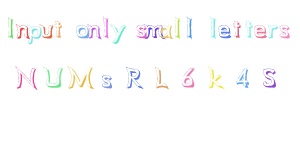4: (232, 64, 255, 91)
6: (180, 60, 200, 92)
I: (3, 15, 16, 43)
L: (151, 60, 174, 94)
M: (68, 61, 95, 92)
N: (12, 59, 38, 92)
R: (121, 61, 146, 93)
S: (260, 64, 282, 91)
U: (40, 63, 65, 91)
a: (159, 21, 174, 41)
e: (255, 16, 268, 43), (217, 21, 233, 42)
k: (203, 62, 227, 93)
l: (207, 14, 219, 43), (184, 15, 197, 41), (100, 13, 111, 43), (171, 16, 183, 40)
m: (145, 21, 162, 42)
n: (15, 21, 28, 42), (88, 20, 101, 41)
o: (75, 19, 90, 43)
p: (27, 21, 43, 45)
r: (268, 19, 280, 42)
s: (100, 70, 116, 92), (279, 19, 294, 42), (134, 20, 147, 42)
t: (243, 14, 254, 42), (54, 17, 66, 42), (232, 16, 244, 40)
u: (40, 20, 53, 42)
y: (110, 19, 127, 47)
